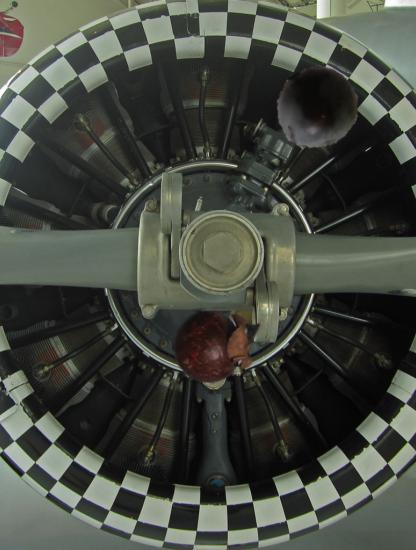Mangostan: (171, 302, 262, 393)
Plum: (274, 65, 360, 151)
